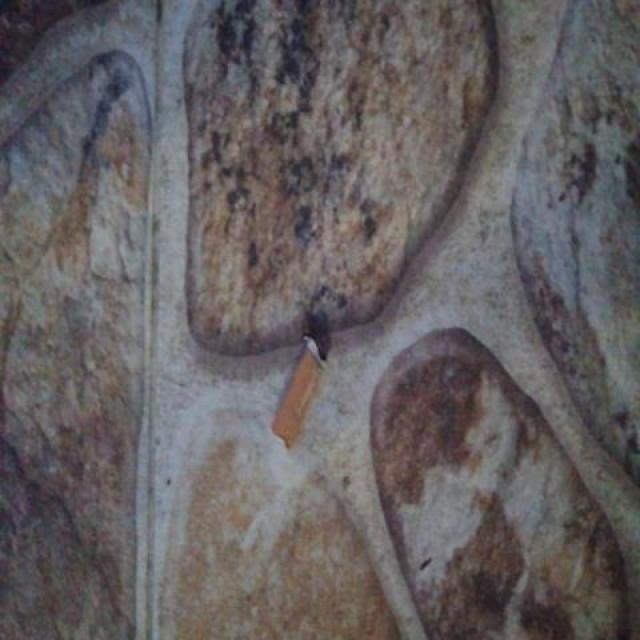non-organic waste: (264, 330, 332, 453)
